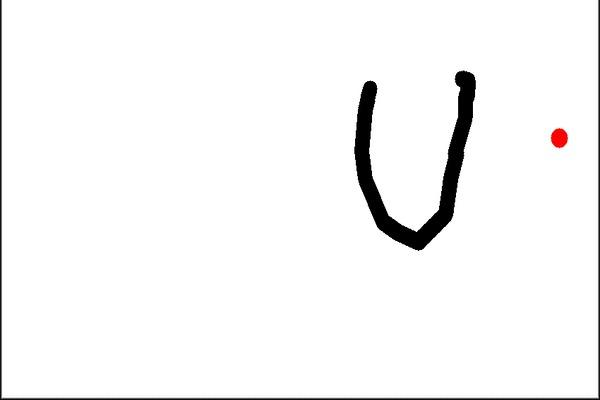U: (355, 65, 466, 256)
